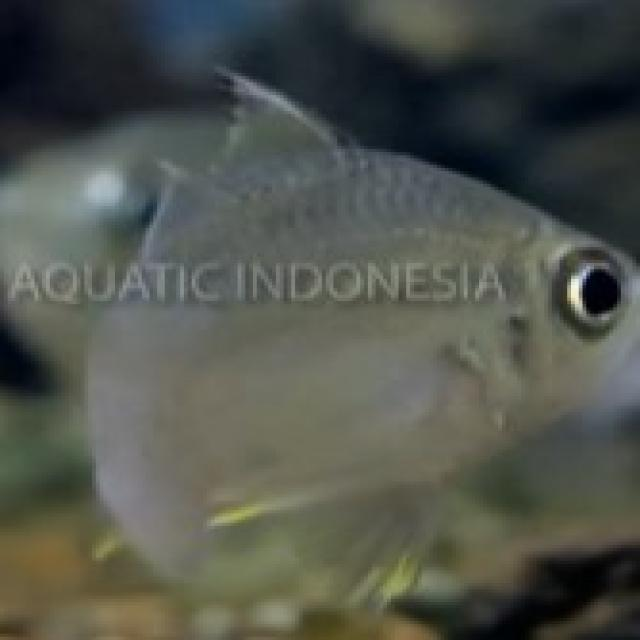Glass-Perchlet: (50, 40, 640, 604)
